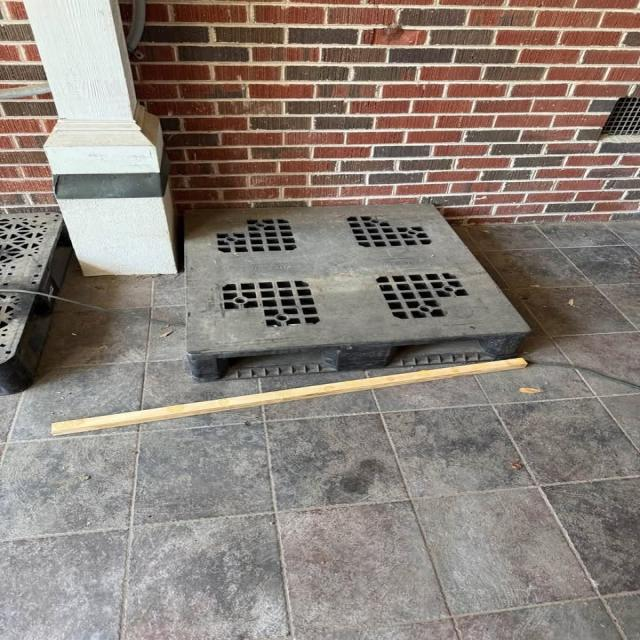non-igps: (173, 199, 543, 389), (0, 208, 76, 400)
